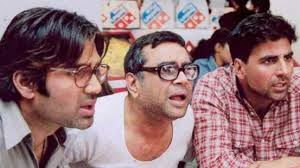Bad: (1, 7, 199, 168), (109, 13, 300, 168)
